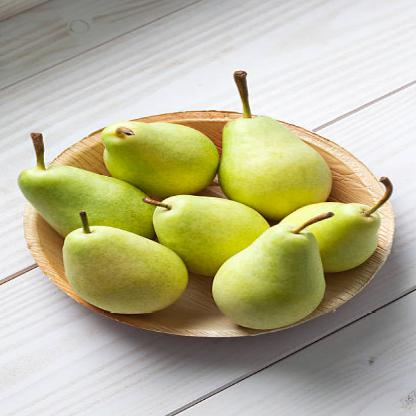Paer: (217, 110, 351, 215), (55, 220, 192, 317), (19, 165, 170, 237)
